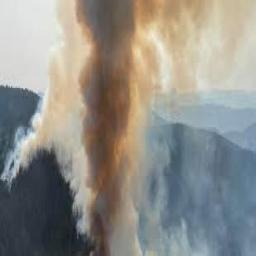Heavy smoke: (41, 0, 149, 255)
Low smoke: (151, 1, 255, 256)
